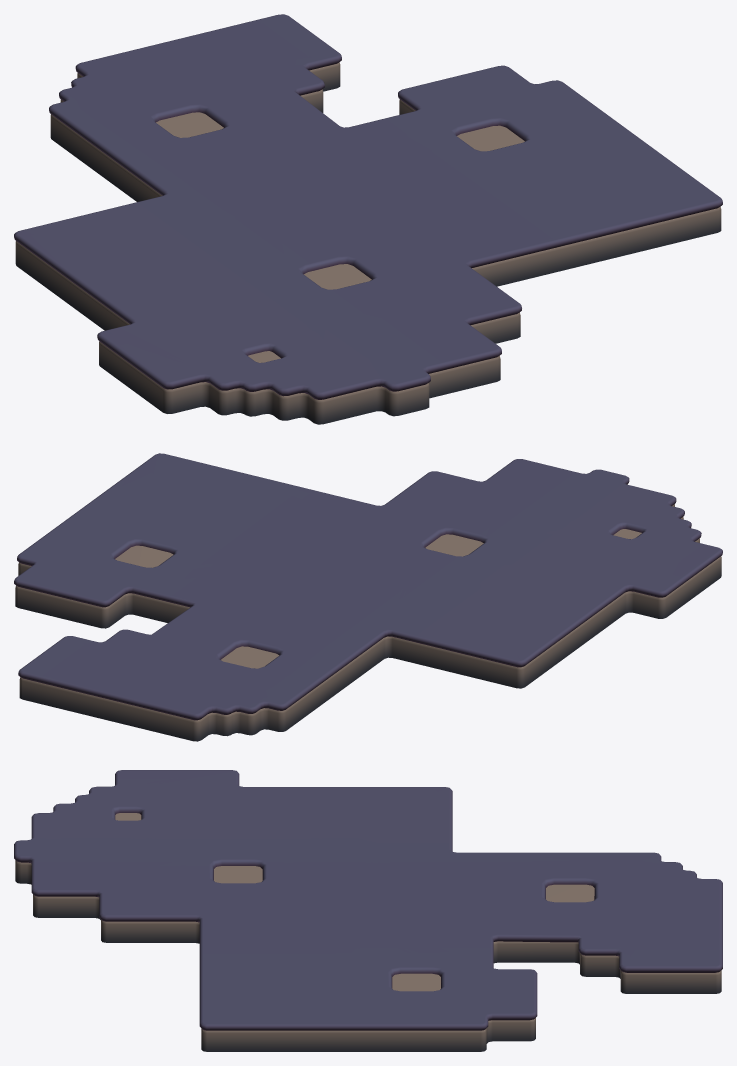
Rendered from NightFloor.fbx.
3 renders of one model, top to bottom at view 1: azimuth 30°, elevation 25°; view 2: azimuth 150°, elevation 25°; view 3: azimuth 270°, elevation 25°, orthographic. The views are drawn at different scales.
Parts seen in each view (by area): view 1: Base.002; view 2: Base.002; view 3: Base.002.
Boxes of the visible parts, bbox=[...] form: Base.002: bbox=[14, 14, 722, 424]; Base.002: bbox=[14, 453, 722, 741]; Base.002: bbox=[14, 770, 722, 1051].
Size of the model in its own units: 8398 by 416 by 9810.
